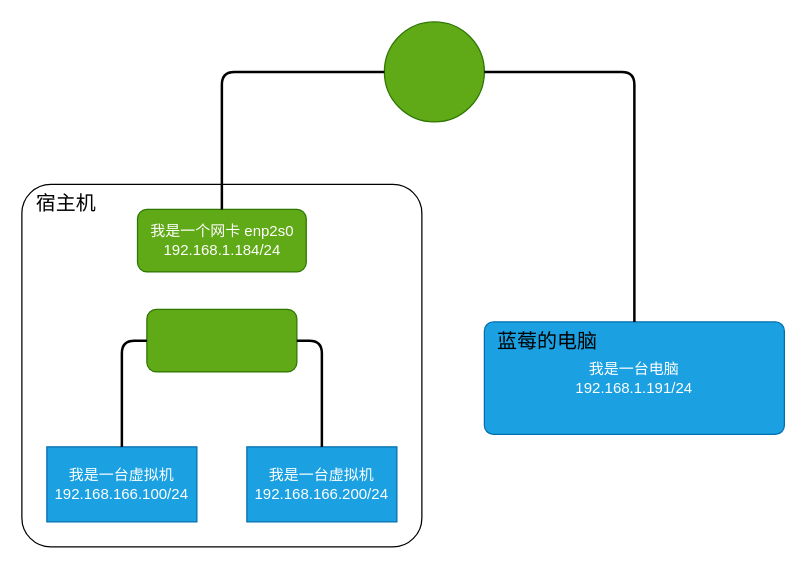
Image size: 806x581. Some labels were removed from this diagram. Here are the shapes that lost their labels. From the top down, the centre of each, then its label:
the point at 433,71: 我是一个 路由器 192.168.1.1/24
the point at 221,340: 虚拟网桥 br0 192.168.166.1/24
